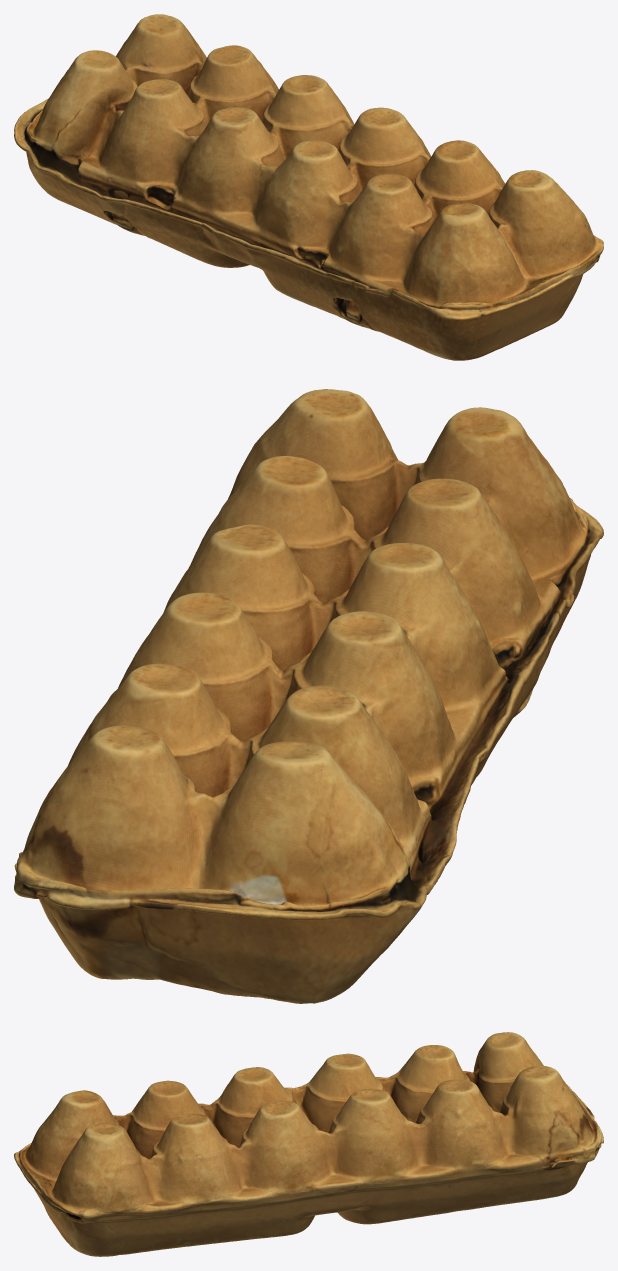
Rendered from eggcarton.glb.
3 renders of one model, top to bottom at view 1: azimuth 30°, elevation 25°; view 2: azimuth 150°, elevation 25°; view 3: azimuth 270°, elevation 25°, orthographic. The views are drawn at different scales.
Parts seen in each view (by area): view 1: Mesh_0; view 2: Mesh_0; view 3: Mesh_0.
Part boxes in pixels (x1=…): Mesh_0: x1=14, y1=14, x2=603, y2=360; Mesh_0: x1=14, y1=389, x2=603, y2=1003; Mesh_0: x1=14, y1=1032, x2=603, y2=1256.
Size of the model in its own units: 7.36 by 2.99 by 12.75.
1 material, 1 textured.
